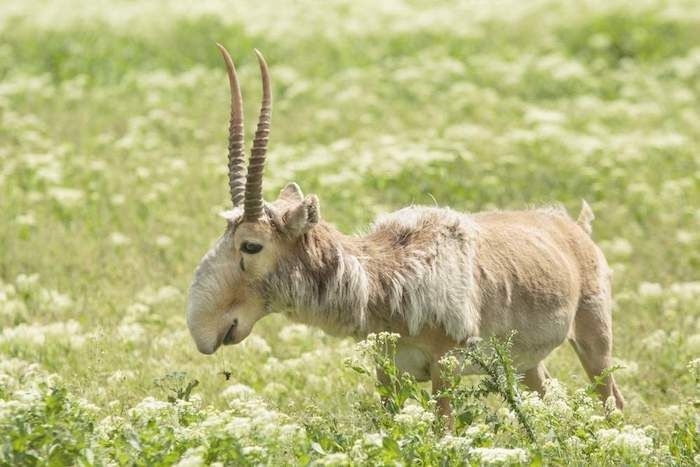saiga: (183, 41, 628, 417)
